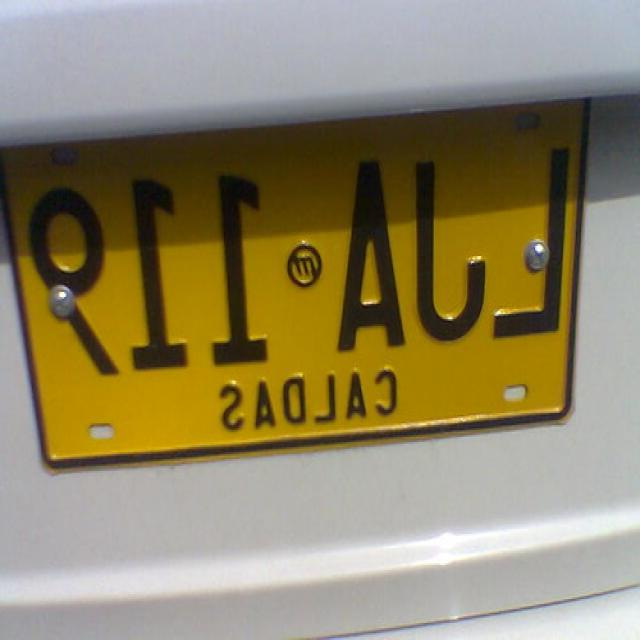placas: (15, 125, 577, 387)
